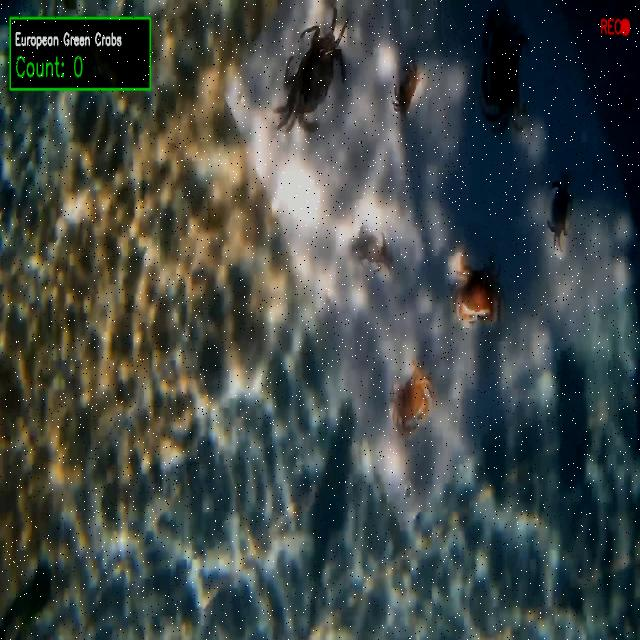European_Green_Crab: (263, 0, 363, 162), (538, 158, 584, 262), (340, 212, 399, 287)
